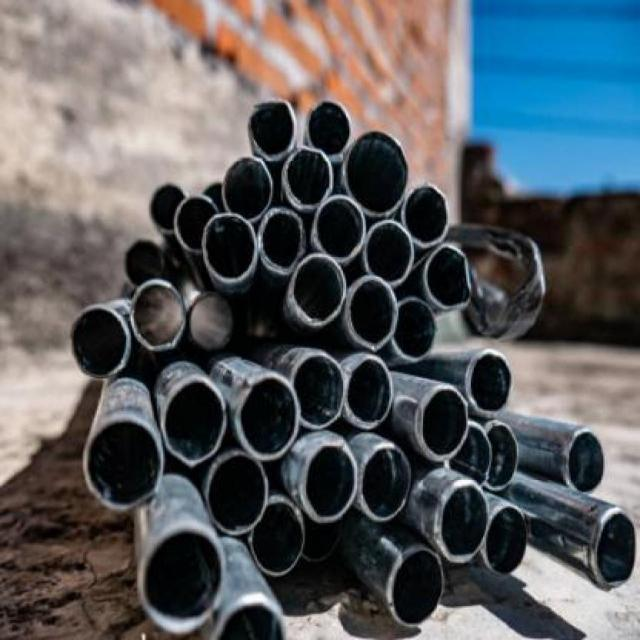pipe: (140, 529, 224, 635), (82, 421, 162, 511), (163, 379, 226, 467), (346, 130, 409, 217), (237, 376, 300, 461), (206, 454, 268, 535), (301, 441, 357, 523), (387, 548, 445, 627), (250, 498, 304, 579), (70, 307, 127, 378), (437, 484, 489, 561), (292, 254, 346, 328), (292, 353, 345, 428), (130, 282, 186, 352), (359, 445, 410, 521), (201, 214, 256, 283), (416, 387, 467, 460), (345, 355, 393, 431), (346, 276, 397, 347), (314, 195, 365, 265), (363, 219, 414, 286), (223, 156, 274, 221), (424, 245, 474, 310), (258, 208, 305, 276), (596, 511, 636, 590), (402, 183, 450, 248), (467, 350, 512, 417), (248, 98, 297, 159), (485, 504, 527, 575), (285, 148, 333, 209), (305, 99, 353, 160), (392, 298, 437, 363), (174, 194, 219, 254), (485, 421, 519, 492), (568, 429, 605, 494), (150, 181, 189, 235), (119, 241, 164, 286)
